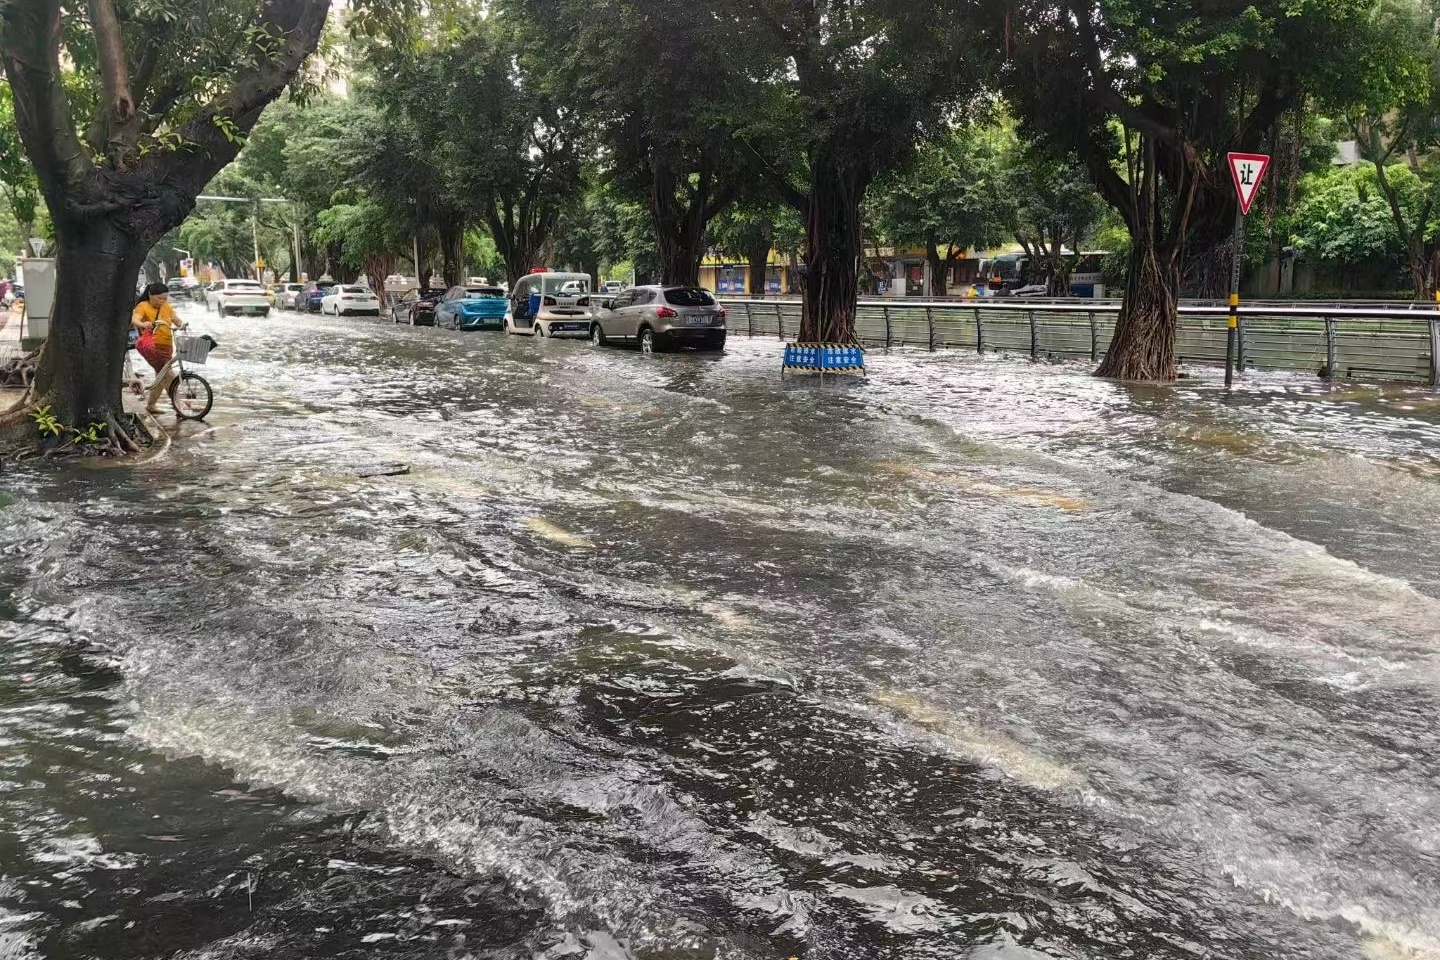puddle: (4, 380, 1438, 957)
